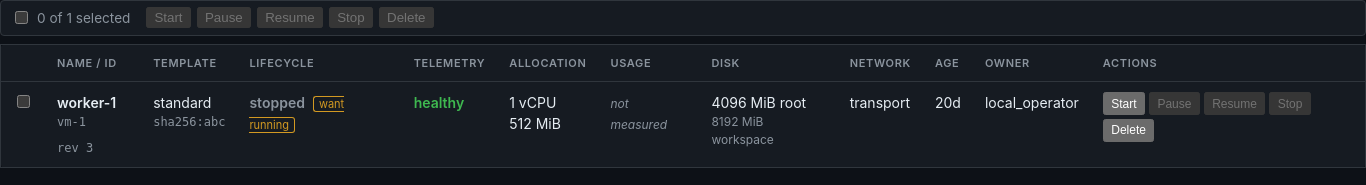
it: legality › disables a bar action no selected VM permits
The width and height of the screenshot is (1366, 185).
Click the checkbox named "select all" at (21, 18), box left=15, top=11, right=28, bottom=24
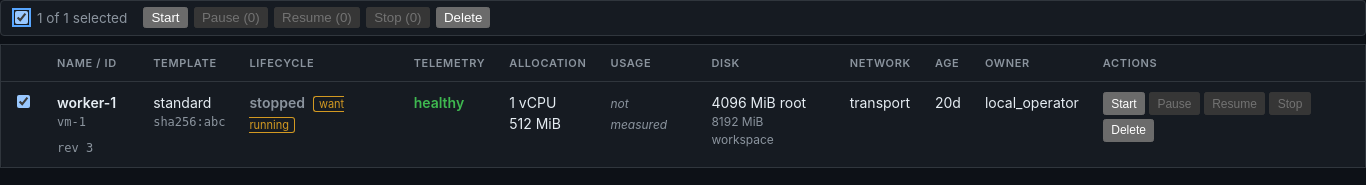
Check: the button "Pause (0)" is disabled, box left=194, top=7, right=268, bottom=28
Check: the button "Start" next to "selected" is enabled, box left=143, top=7, right=188, bottom=28
